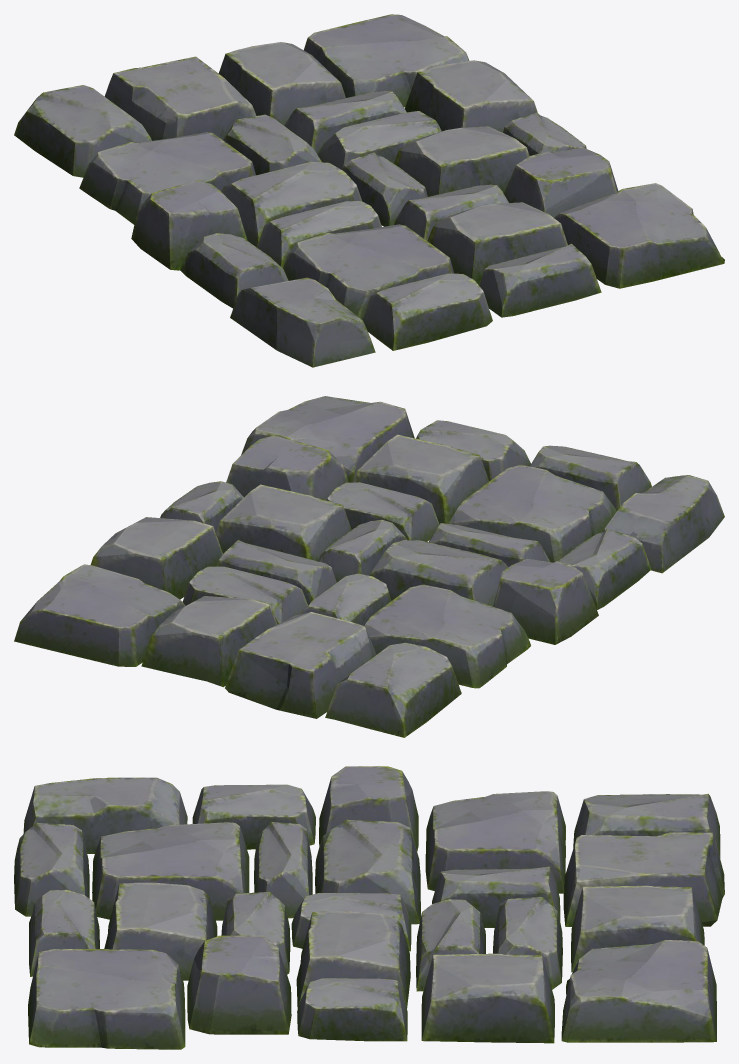
Rendered from RockPath_Square_Thin.glb.
The picture shows the model from 3 angles, top to bottom: view 1: azimuth 30°, elevation 25°; view 2: azimuth 150°, elevation 25°; view 3: azimuth 270°, elevation 25°; orthographic projection. The views are drawn at different scales.
Size of the model in its own units: 1.56 by 0.1763 by 1.99.
Materials: 1 (1 with a texture image).
